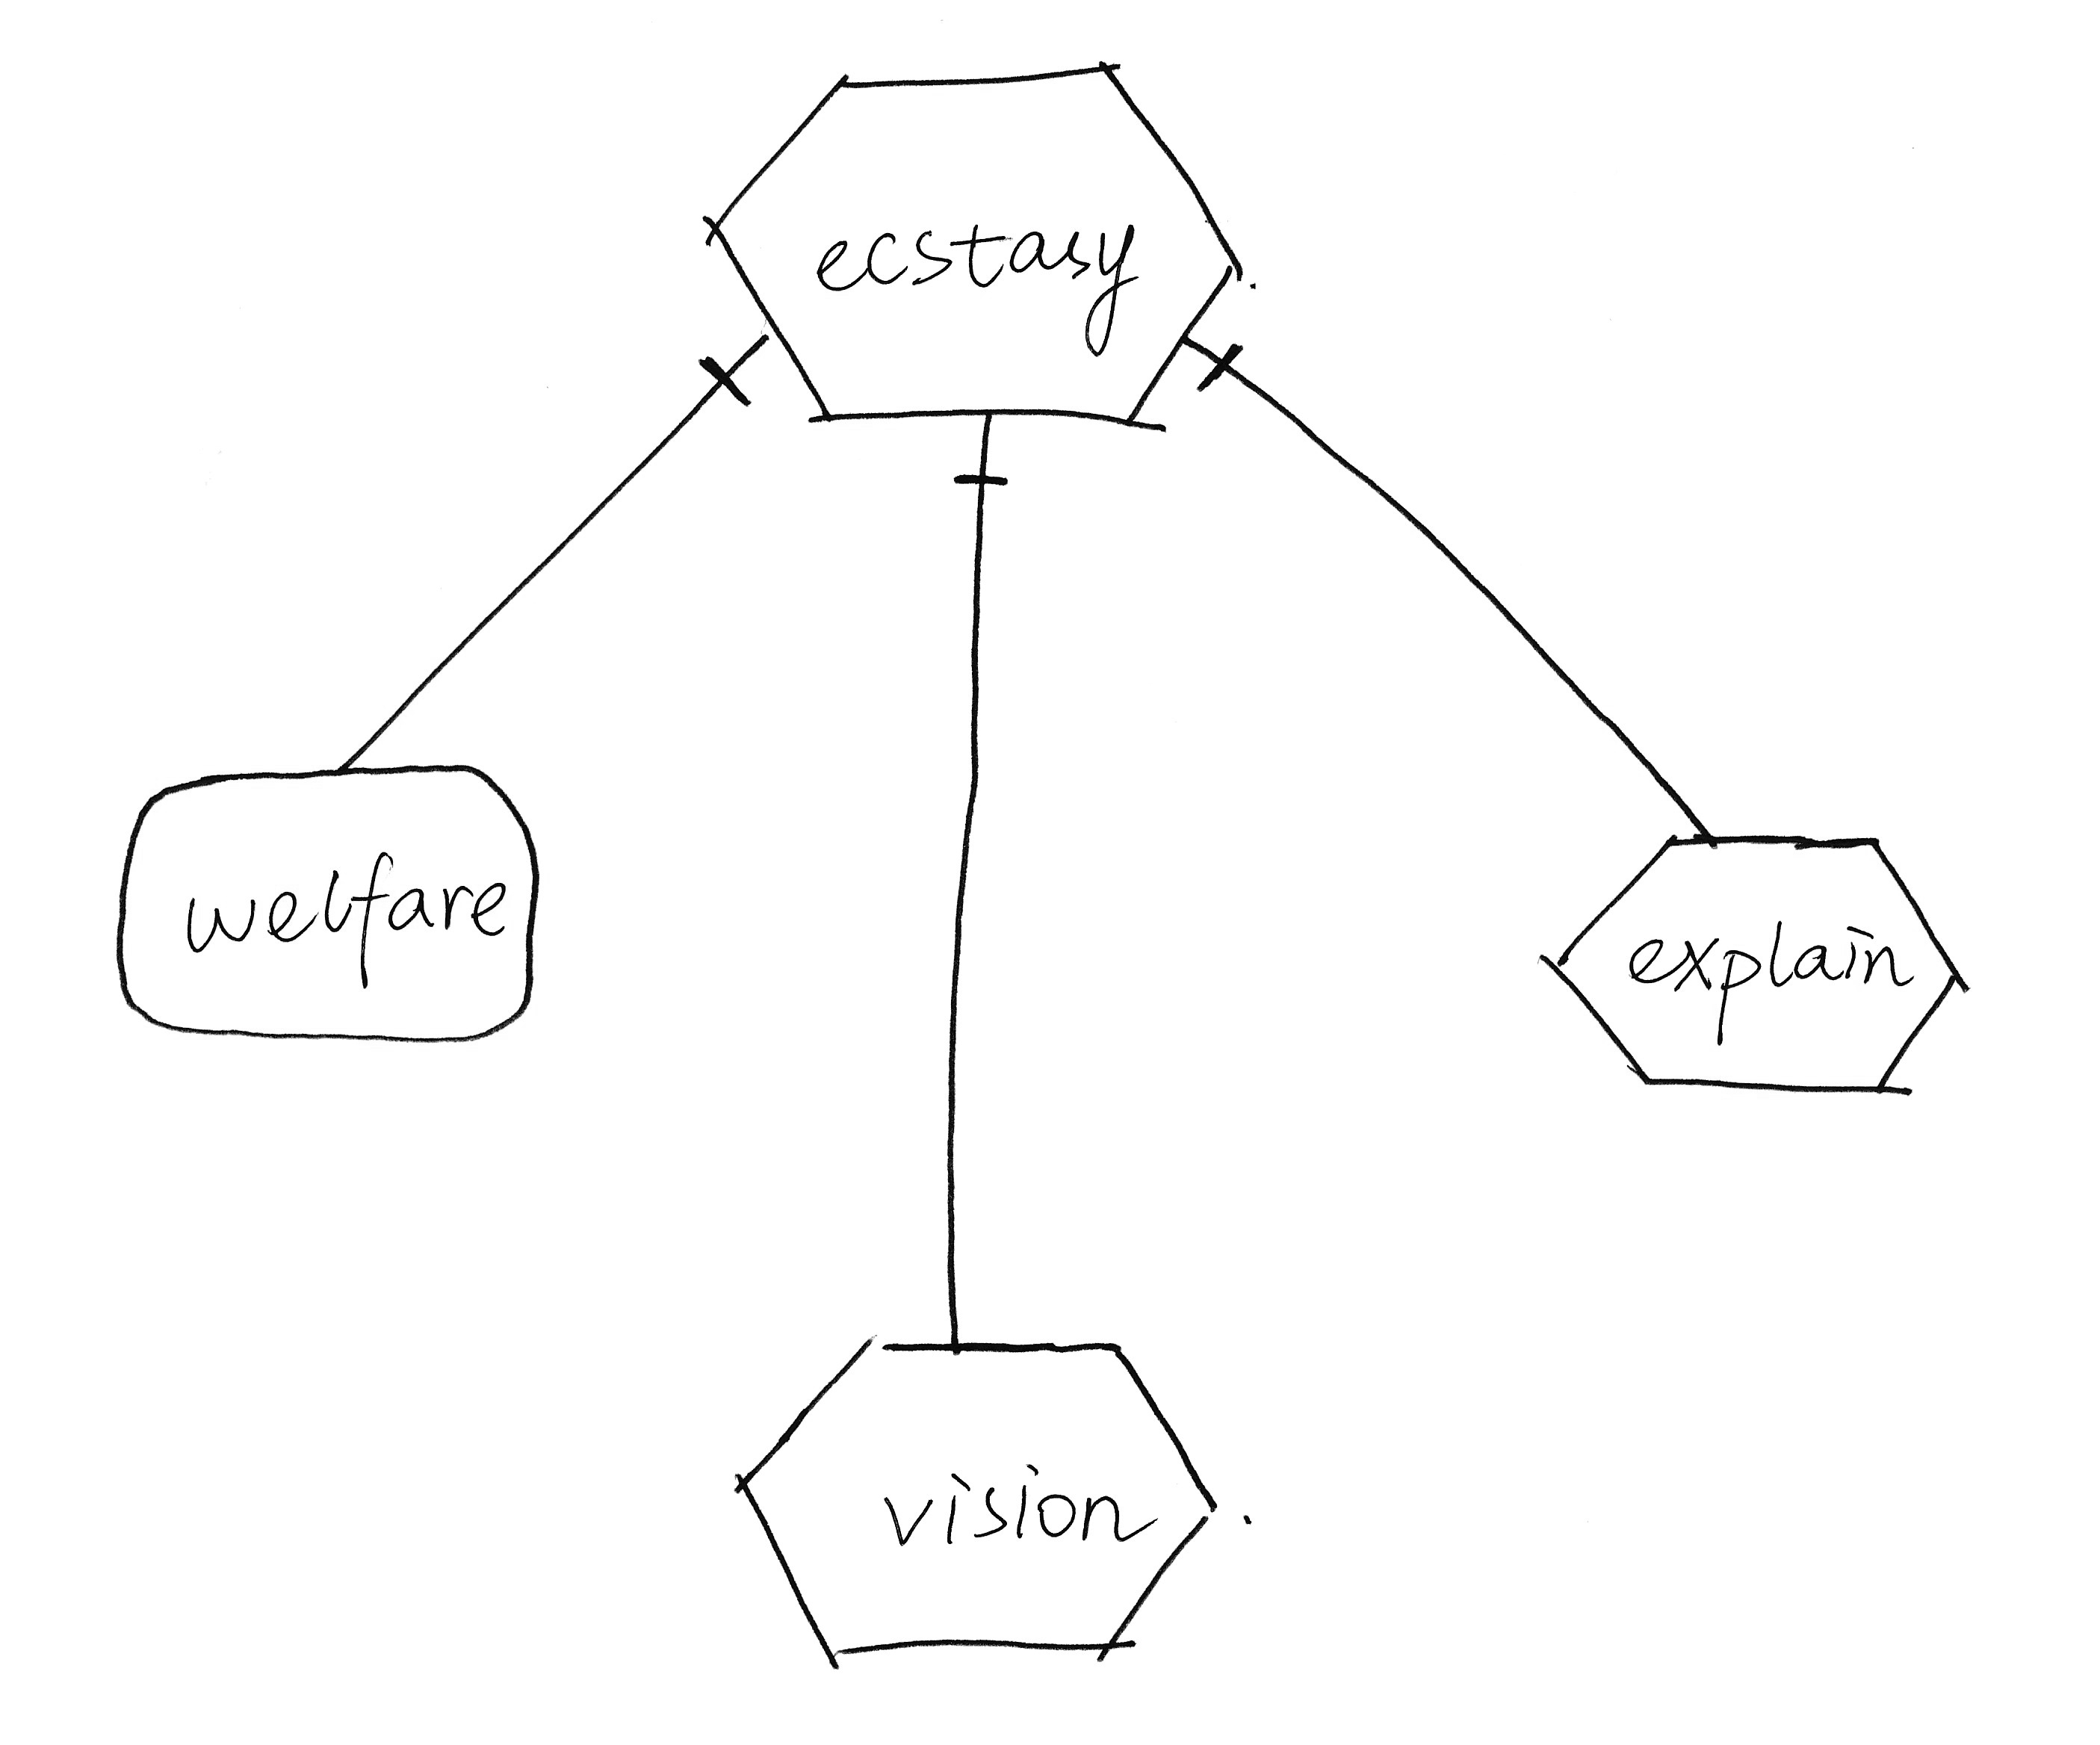and: (680, 324, 774, 434), (937, 432, 1041, 523), (1172, 329, 1273, 417)
goal: (91, 748, 563, 1083)
task: (687, 38, 1258, 452), (699, 1307, 1245, 1684), (1516, 807, 1992, 1135)
